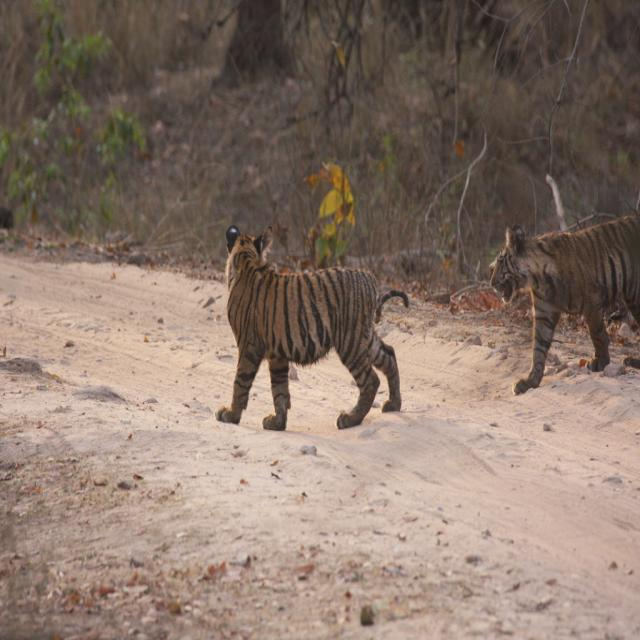Tiger: (215, 230, 413, 441), (488, 213, 640, 398)
